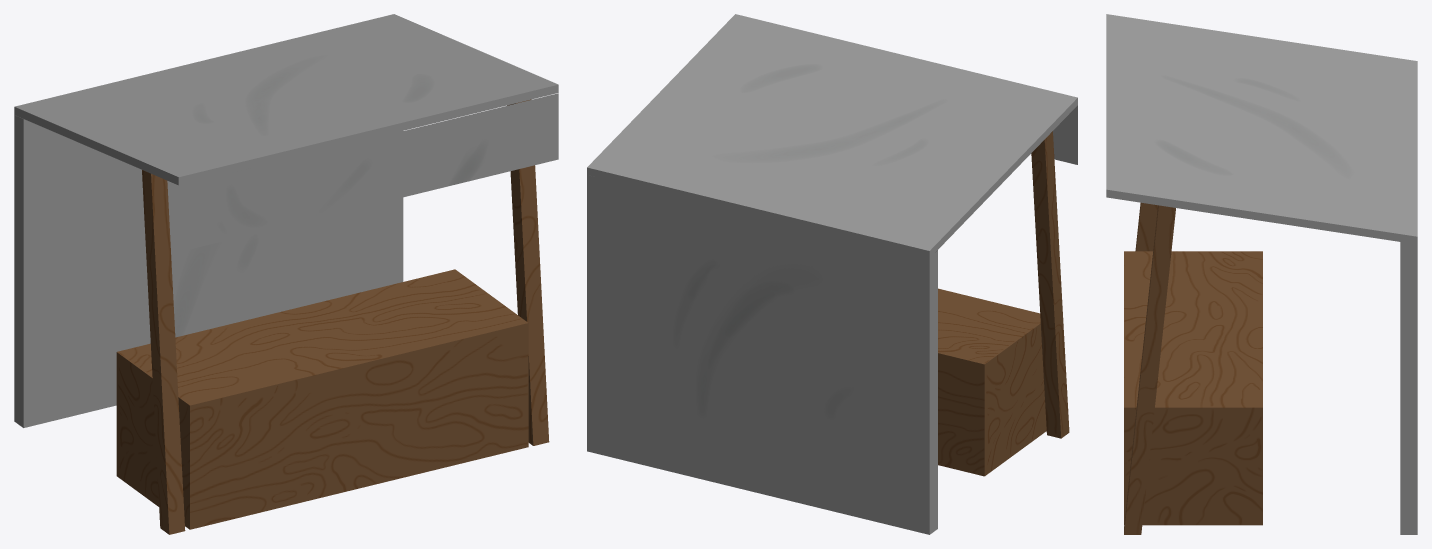
Rendered from Market_stall_rack.fbx.
3 renders of one model, left to right at view 1: azimuth 30°, elevation 25°; view 2: azimuth 150°, elevation 25°; view 3: azimuth 270°, elevation 25°, orthographic. The views are drawn at different scales.
Parts seen in each view (by area): view 1: Market_stall_rack; view 2: Market_stall_rack; view 3: Market_stall_rack.
Boxes of the visible parts, x1,y1,x2,y2 form: Market_stall_rack: [14, 14, 558, 534]; Market_stall_rack: [587, 14, 1077, 534]; Market_stall_rack: [1106, 14, 1417, 534].
Bounding box in the file's own units: 24 × 22.01 × 18.
Materials: 1 (1 with a texture image).
